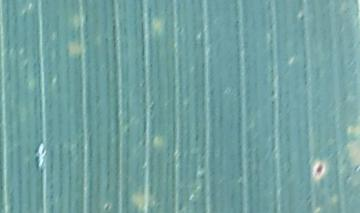tarspot: (314, 162, 324, 176)
